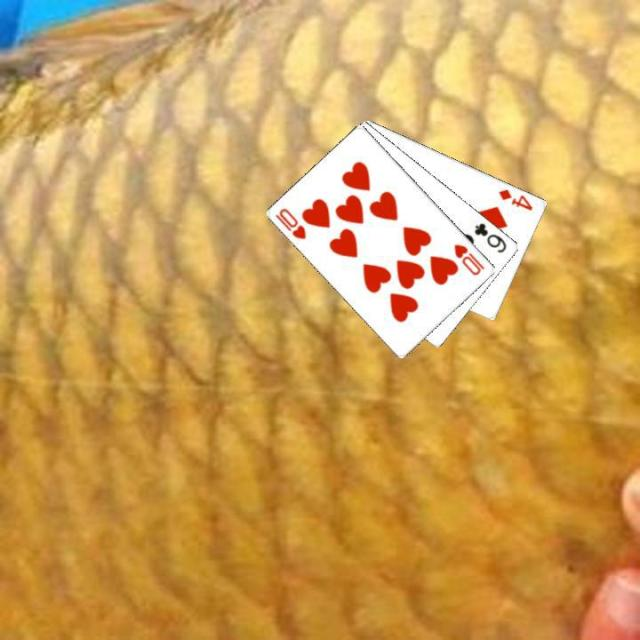10H: (272, 203, 308, 241), (450, 240, 486, 277)
4D: (495, 185, 535, 212)
6C: (471, 219, 508, 254)
